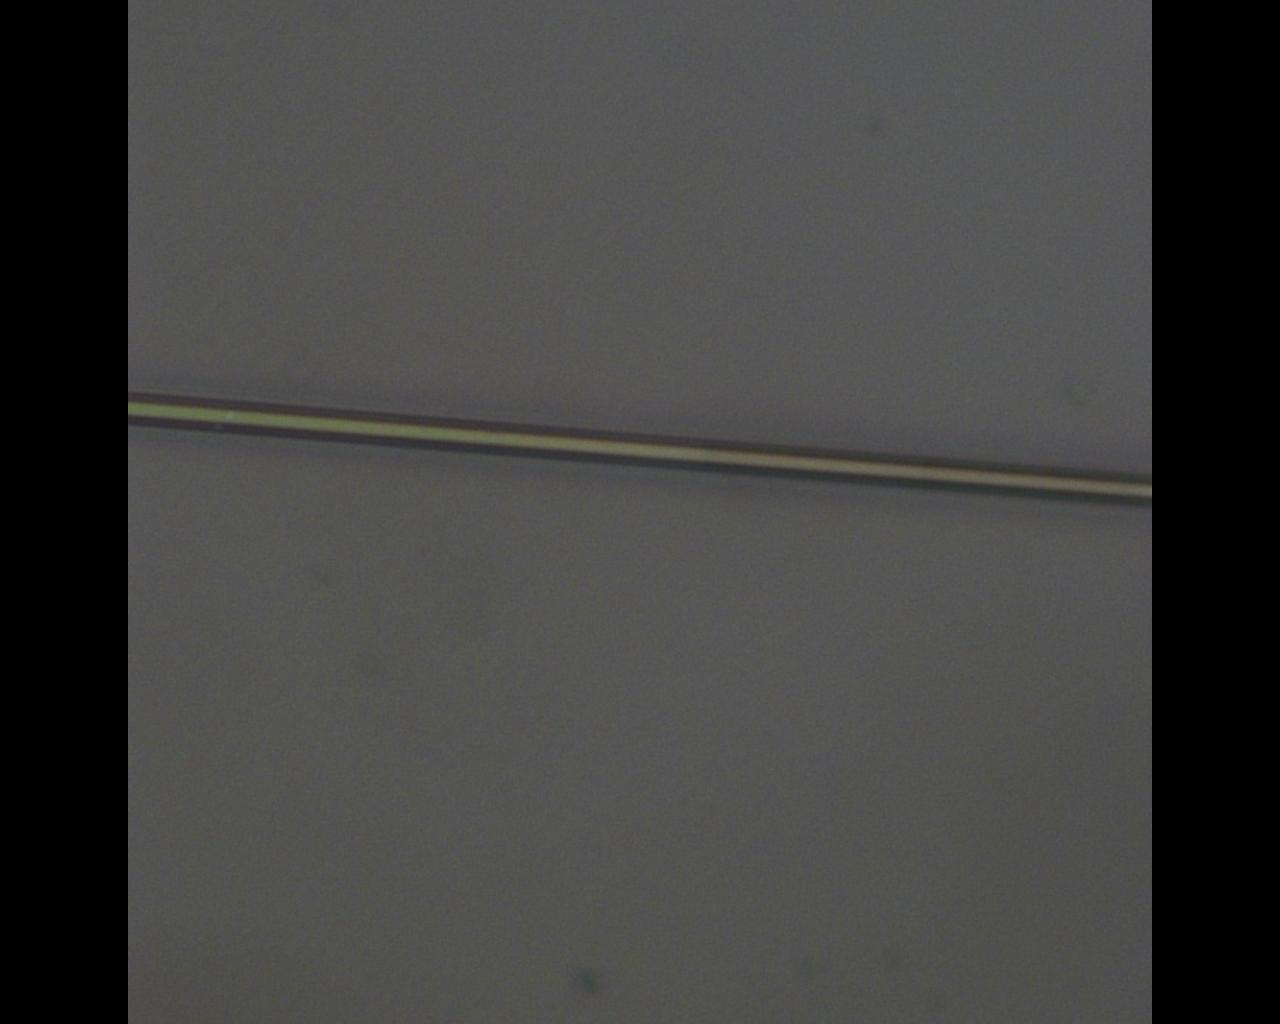fiber: (818, 307, 1280, 1024), (0, 821, 588, 871)
